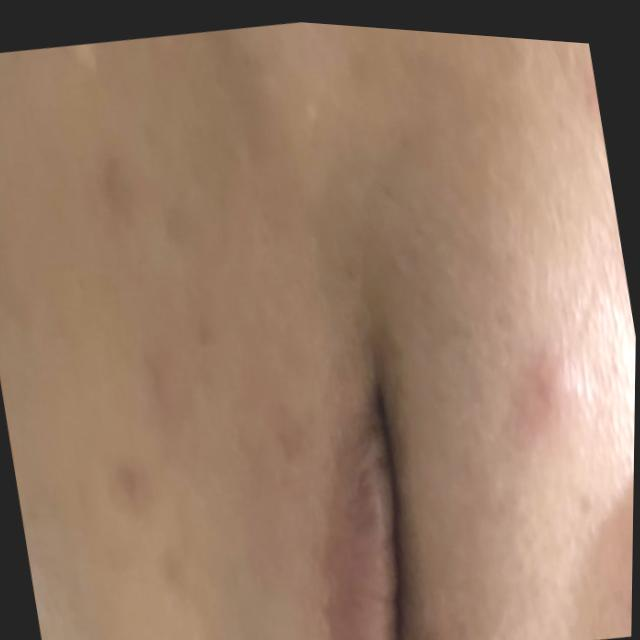papule: (469, 240, 584, 523)
